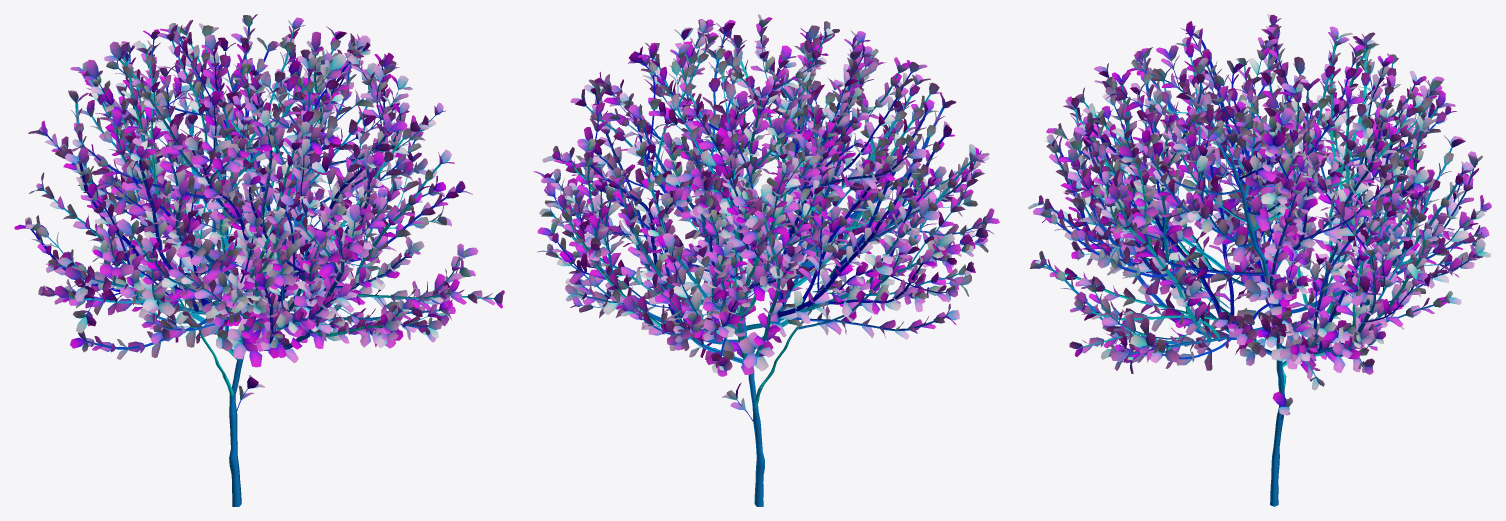
Rendered from Boxwood_wfypfa3ha_Low_wfypfa3ha_VarC_LOD0.fbx.
3 views of the same model, side by side, from view 1: azimuth 30°, elevation 25°; view 2: azimuth 150°, elevation 25°; view 3: azimuth 270°, elevation 25° (orthographic). The views are drawn at different scales.
Visible parts, largest first — view 1: _x0nq_VarC_LOD2; view 2: _x0nq_VarC_LOD2; view 3: _x0nq_VarC_LOD2.
Part boxes in pixels (x1,y1,x2,y2): _x0nq_VarC_LOD2: [14, 14, 504, 506]; _x0nq_VarC_LOD2: [533, 14, 999, 506]; _x0nq_VarC_LOD2: [1028, 14, 1491, 506].
Size of the model in its own units: 71.53 by 78.56 by 70.58.
